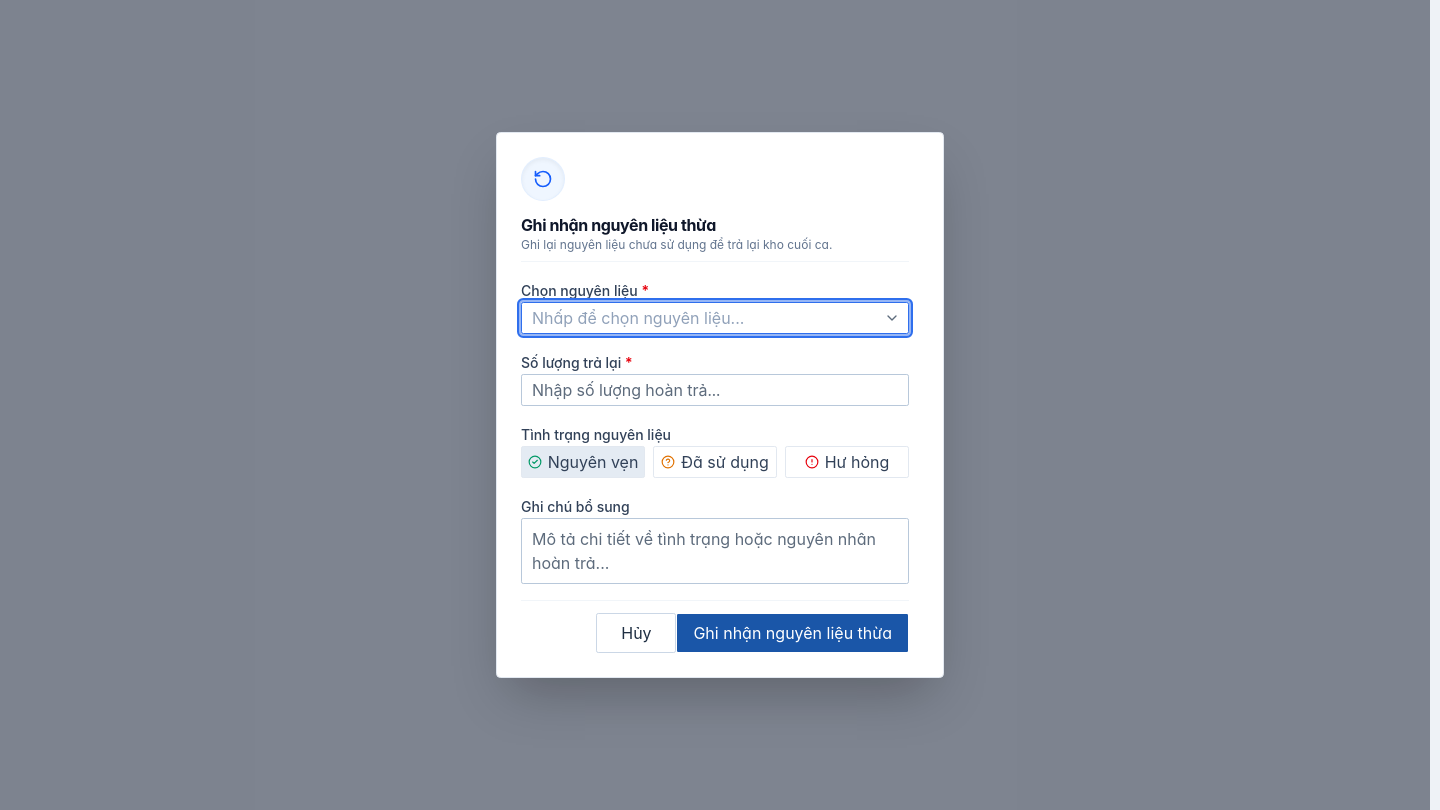
it: ExcessMaterialDialog responsive contract › shows the selected material label instead of its source-line id
The image size is (1440, 810).
Click the dropdown labelled "Nhấp để chọn nguyên liệu... ▼" at (715, 318), box [521,302,909,334]
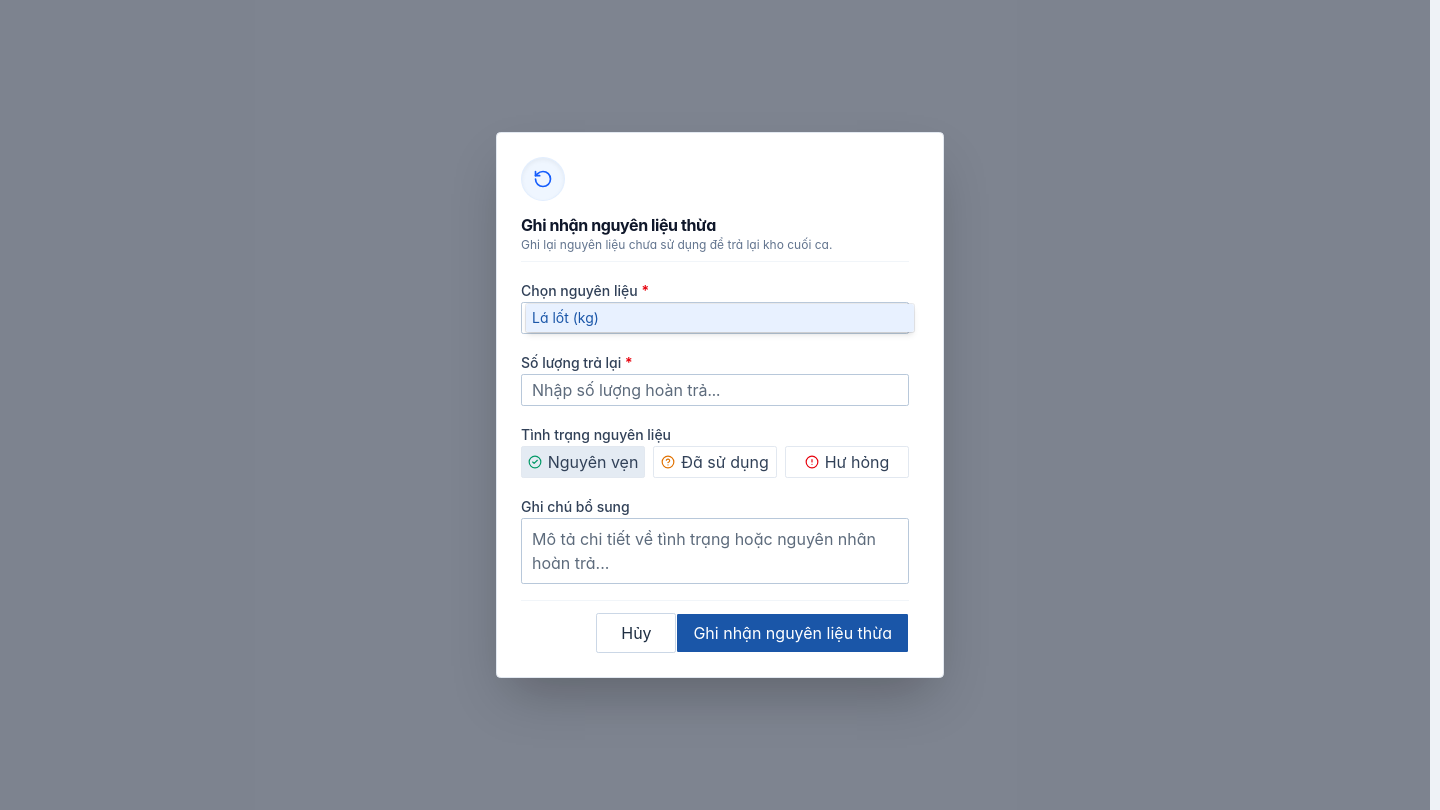
Click the option "Lá lốt (kg)" at (565, 318), box [526,304,914,332]
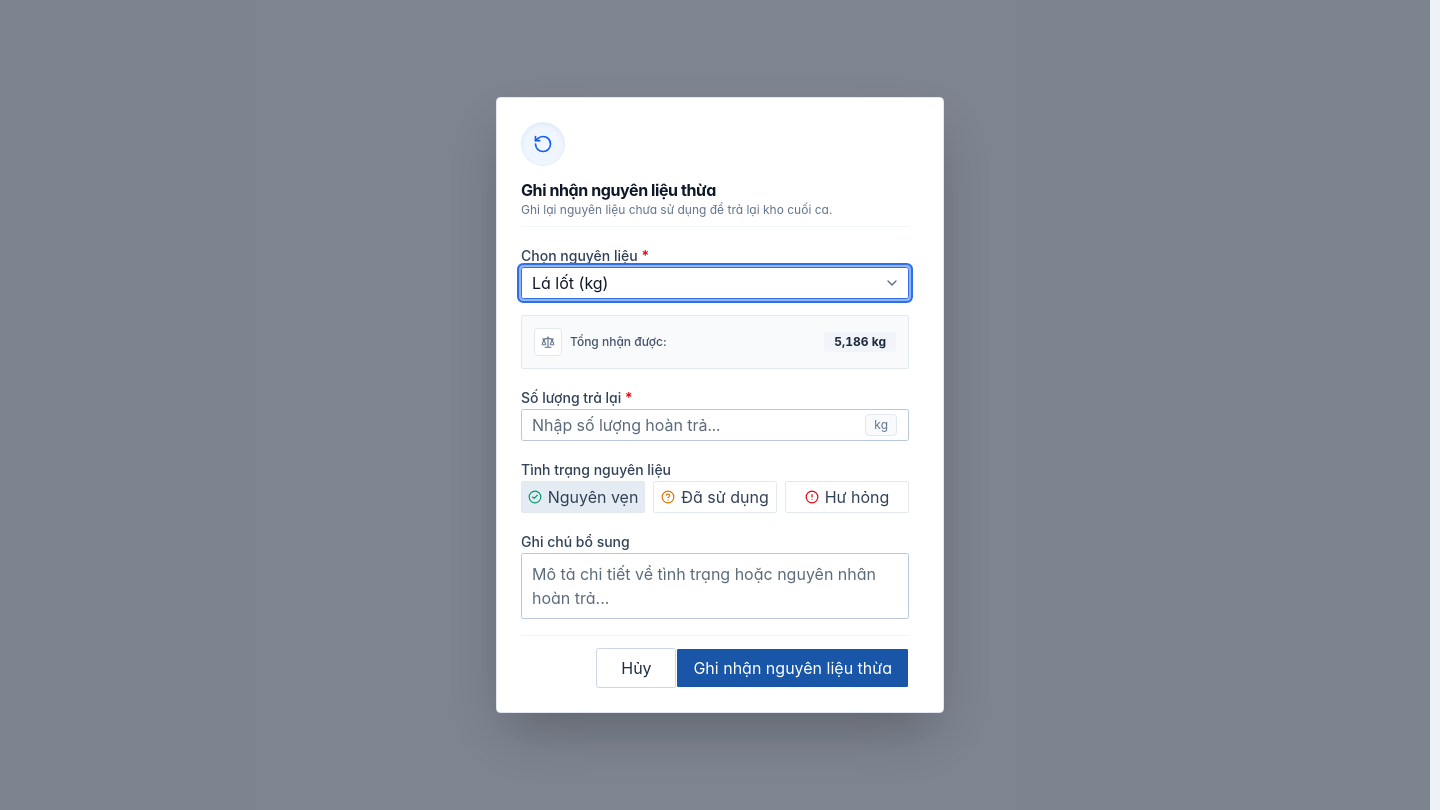
expect the dropdown named "Chọn nguyên liệu" does not show "issue-line-guid": met, box [521,267,909,299]
expect the dropdown named "Chọn nguyên liệu" shows "Lá lốt (kg)": met, box [521,267,909,299]
